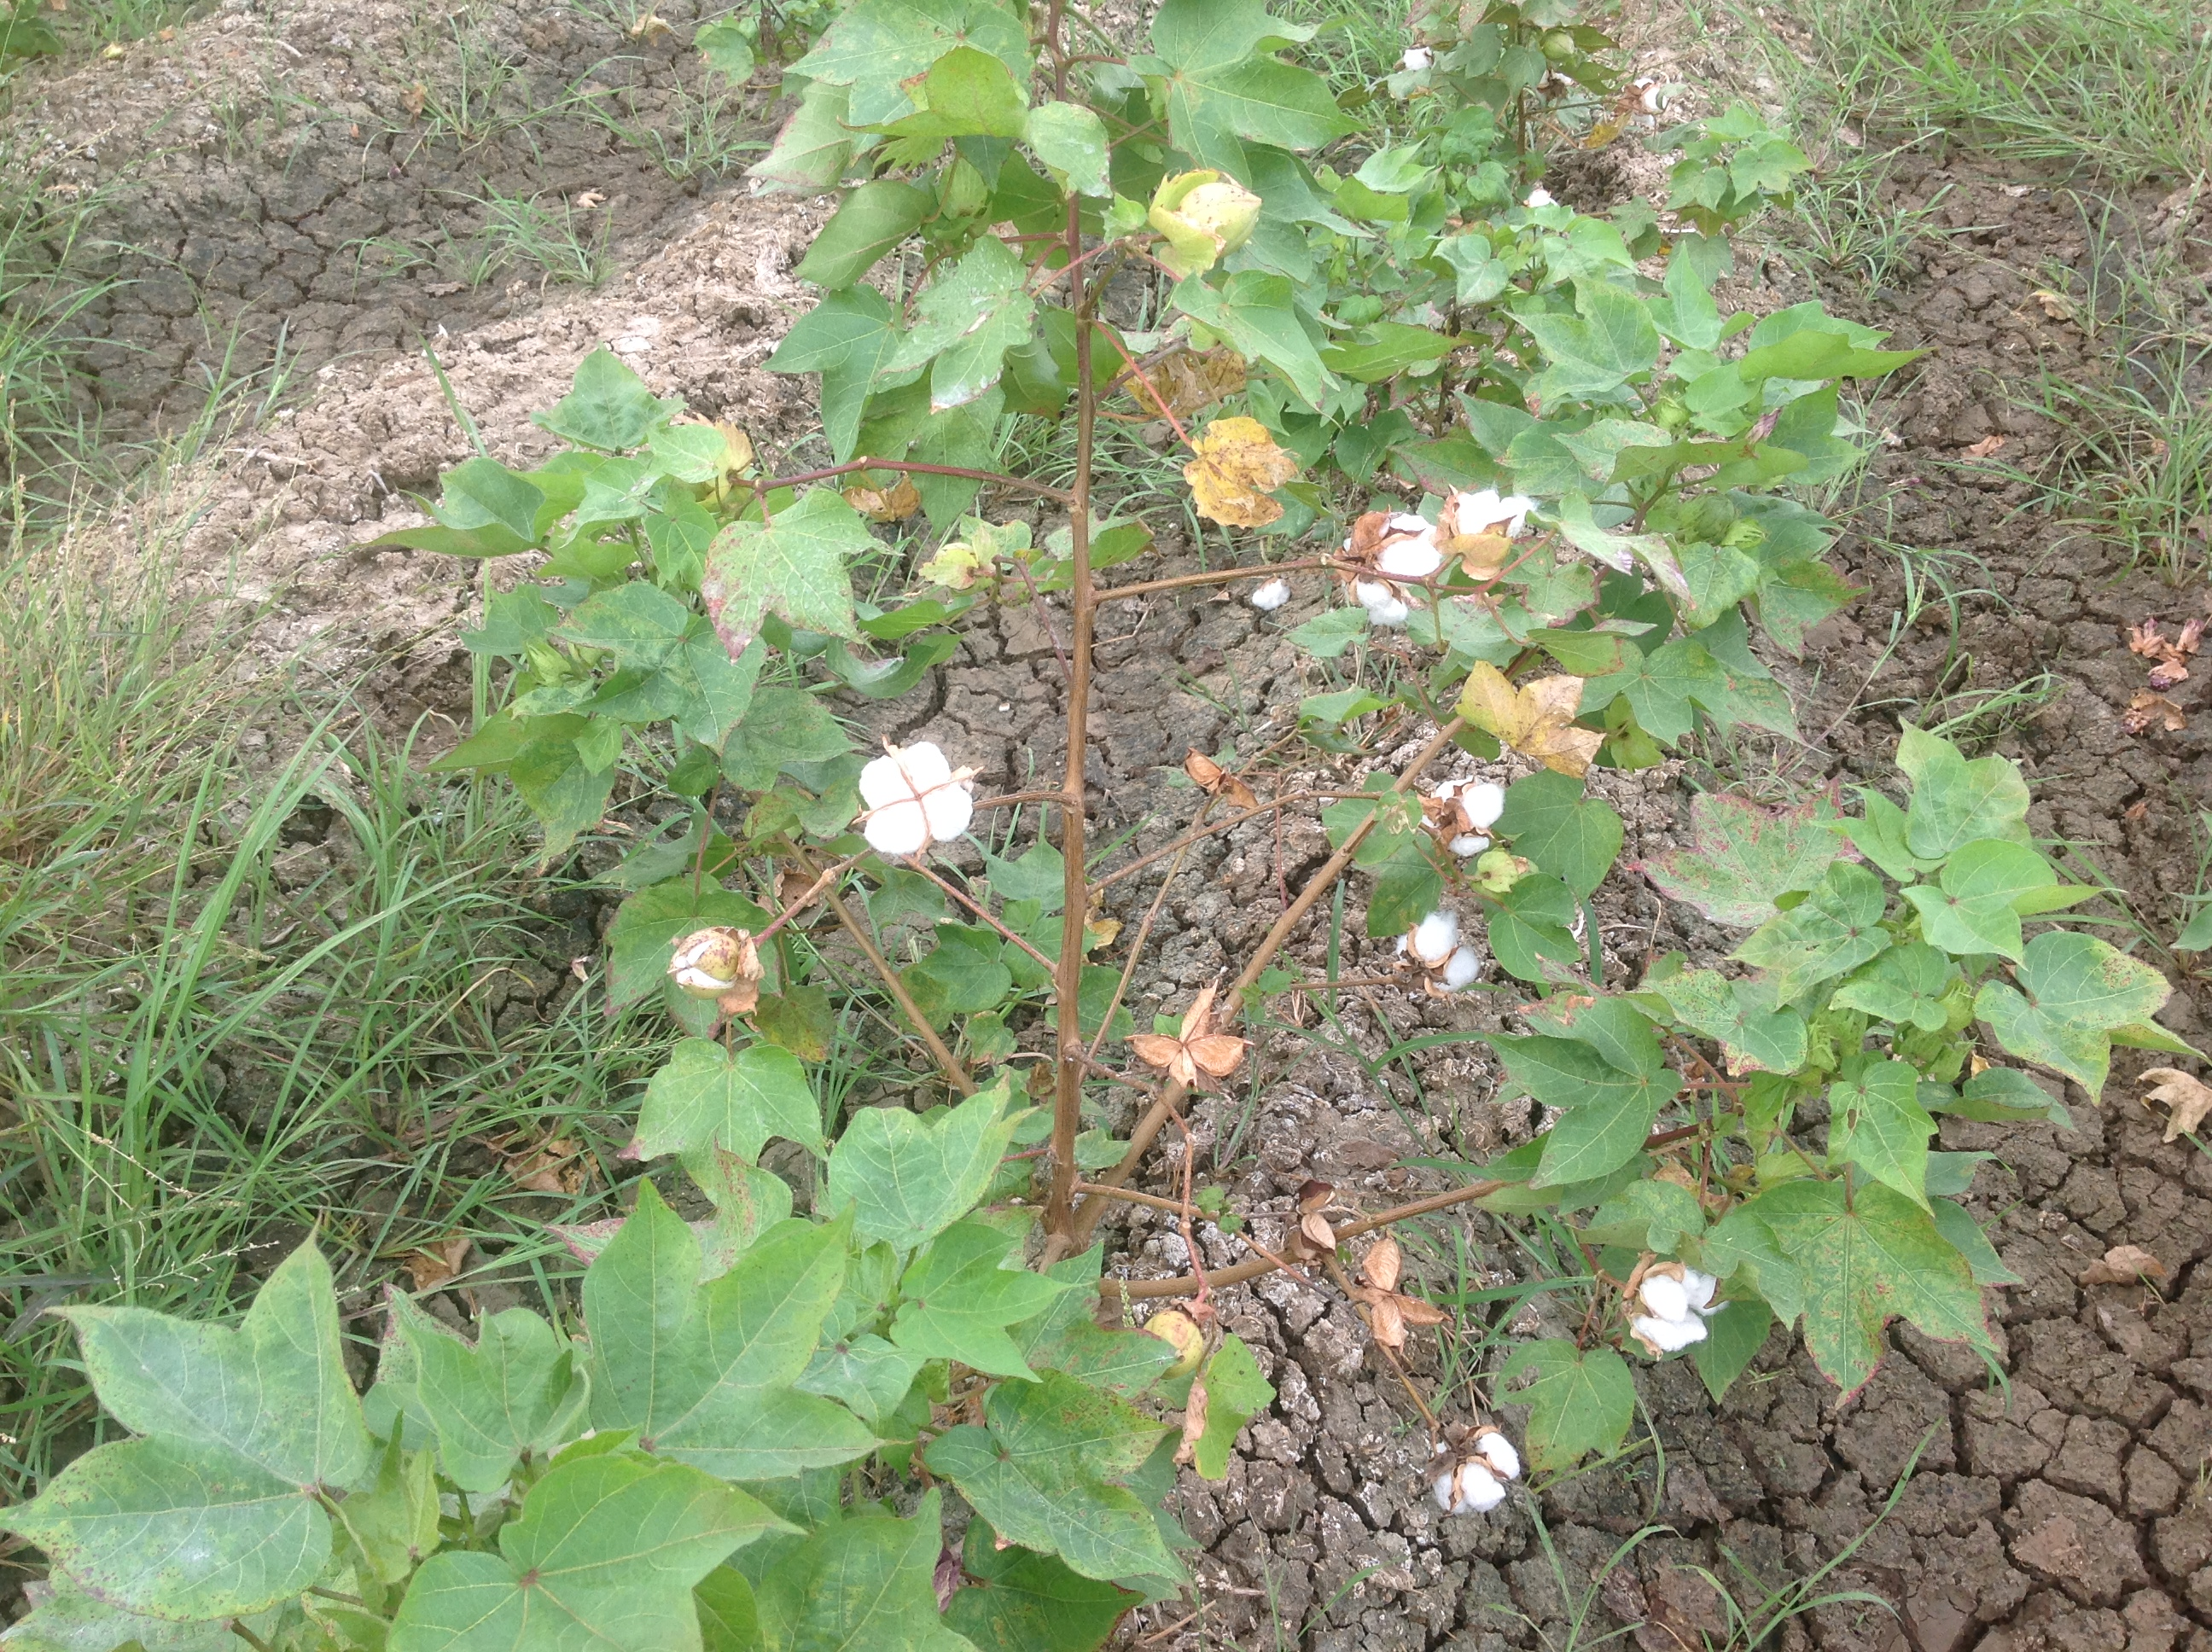cotton: (848, 737, 984, 862), (1339, 512, 1450, 639), (1417, 1407, 1534, 1524), (1620, 1242, 1721, 1371), (1384, 904, 1497, 1012), (1410, 767, 1520, 866), (1445, 481, 1535, 583)
